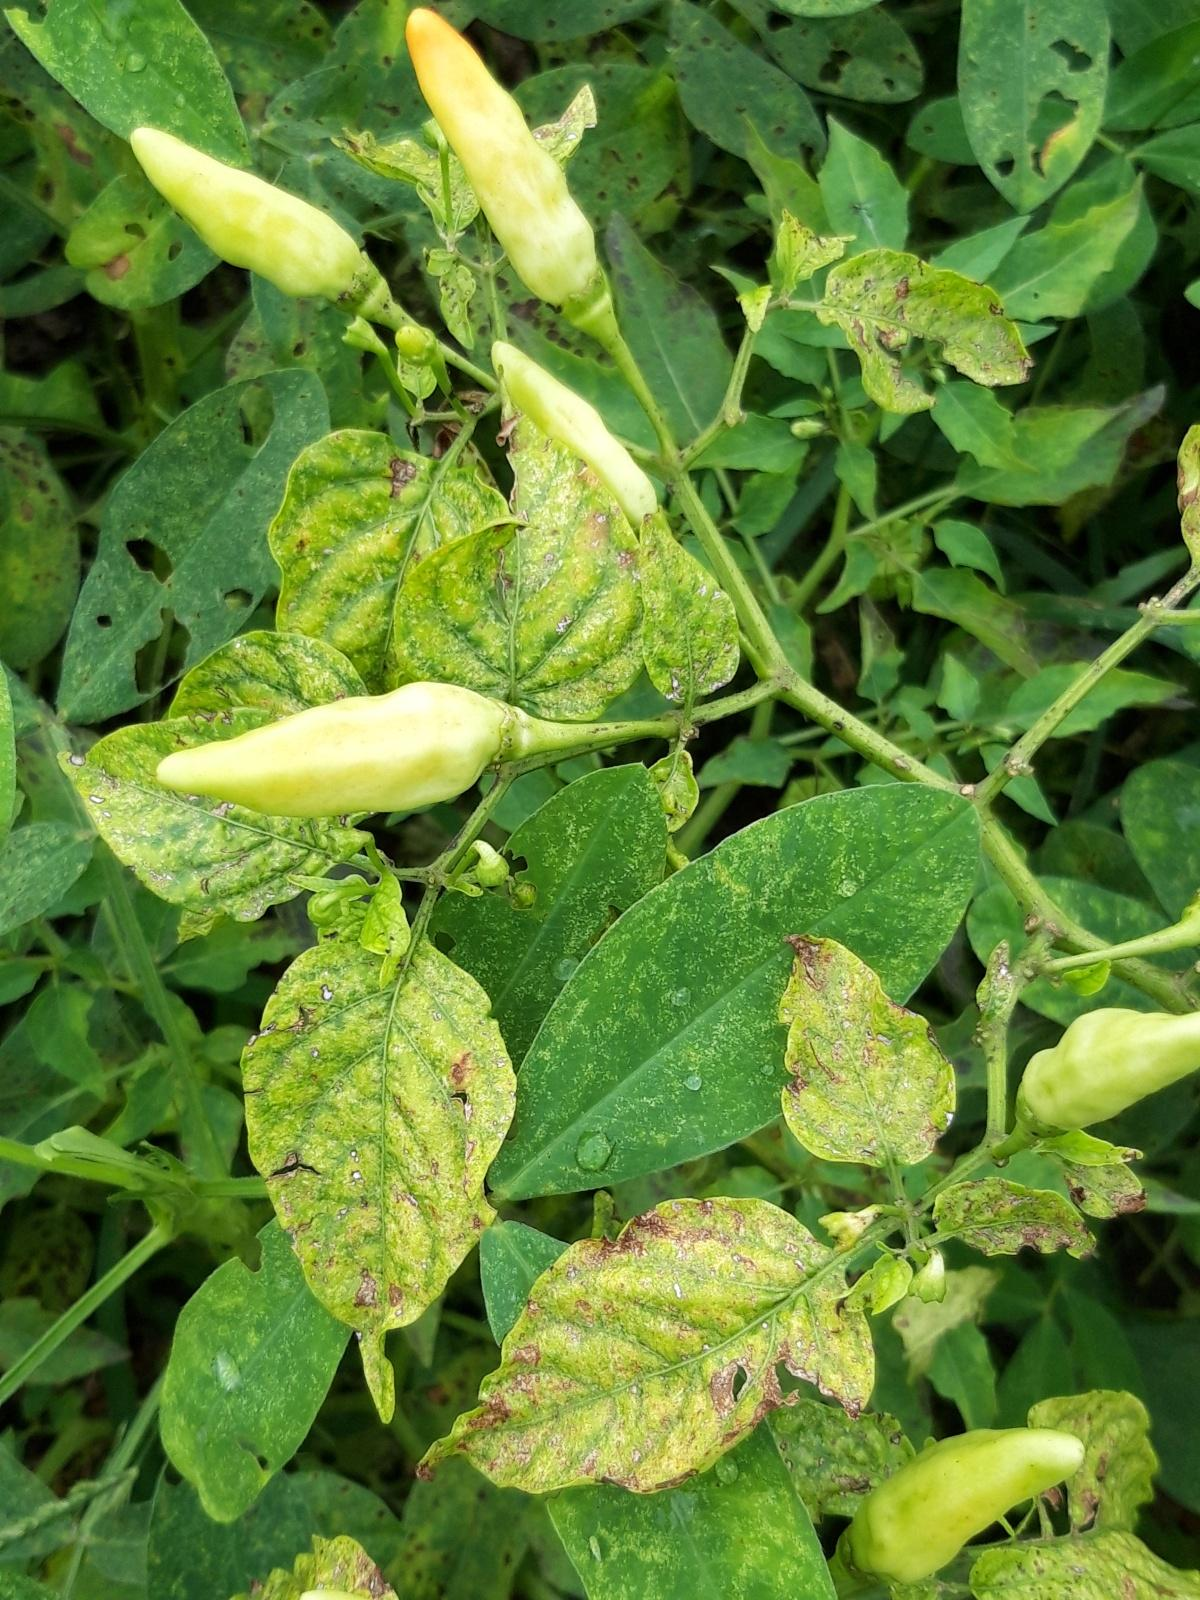cabai_normal: (405, 8, 595, 297), (153, 684, 521, 816), (131, 121, 364, 305), (855, 1430, 1085, 1577), (492, 338, 658, 527), (1018, 1008, 1200, 1130)
